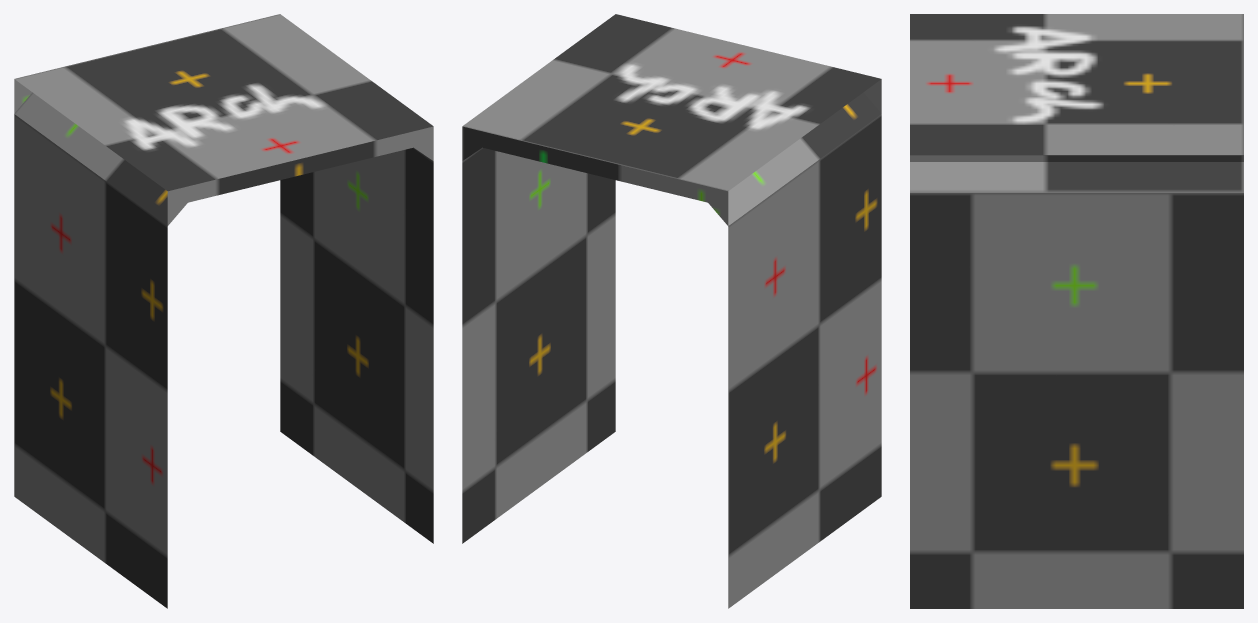
Rendered from Arch2x2x3Test.fbx.
3 renders of one model, left to right at view 1: azimuth 30°, elevation 25°; view 2: azimuth 150°, elevation 25°; view 3: azimuth 270°, elevation 25°, orthographic. The views are drawn at different scales.
Visible parts, largest first — view 1: Arch2x2x3_test; view 2: Arch2x2x3_test; view 3: Arch2x2x3_test.
Boxes of the visible parts, x1,y1,x2,y2 form: Arch2x2x3_test: (14,14,433,608); Arch2x2x3_test: (462,14,881,608); Arch2x2x3_test: (910,14,1243,608).
Size of the model in its own units: 2 by 2 by 3.
Materials: 1 (1 with a texture image).
